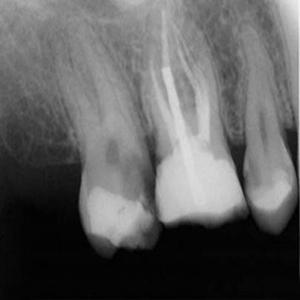tooth: (49, 21, 157, 256), (150, 3, 245, 233), (236, 10, 297, 234)
